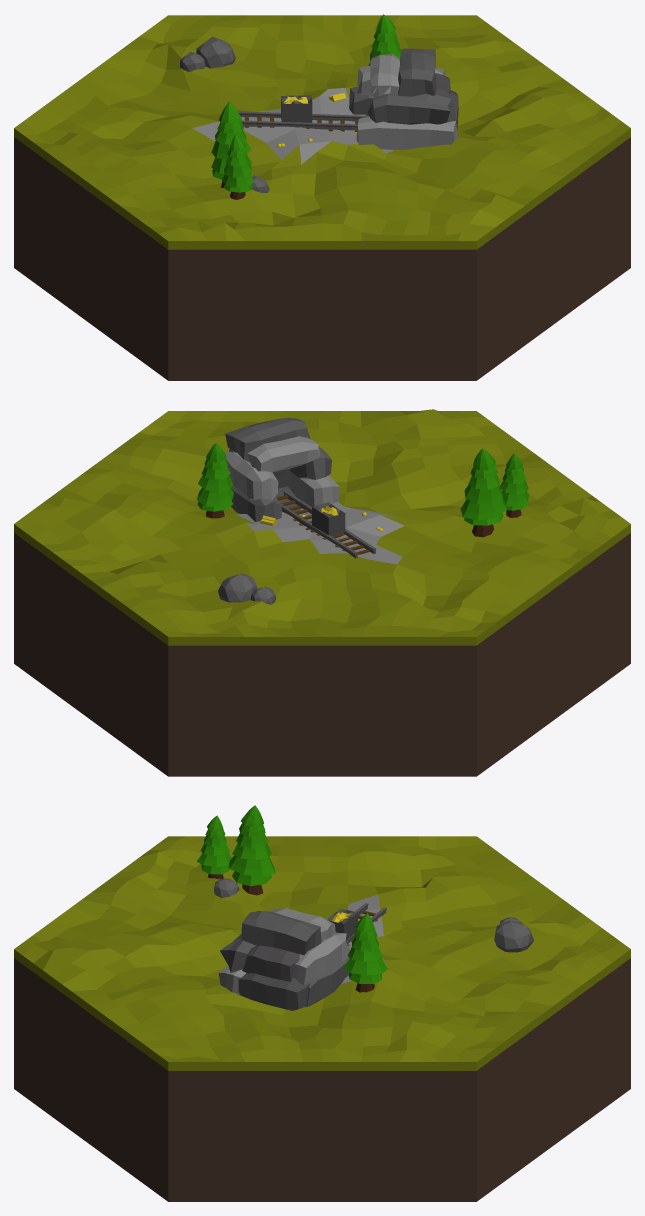
Rendered from Goldfeld.fbx.
The picture shows the model from 3 angles, top to bottom: view 1: azimuth 30°, elevation 25°; view 2: azimuth 150°, elevation 25°; view 3: azimuth 270°, elevation 25°; orthographic projection.
Visible parts, largest first — view 1: Cylinder, Cube.001, Cube.007, Cube.008, Cube.009, Icosphere.001, Cube.025, Cube, Cube.010, Cube.002; view 2: Cylinder, Cube.009, Cube.008, Cube.005, Cube.001, Cube.002, Cube.025, Icosphere.001, Cube.007, Ring2, Ring3, Ring2.002 (+1 smaller); view 3: Cylinder, Cube.008, Cube.003, Cube.005, Cube.006, Icosphere.001, Cube.002, Cube.007, Ring2, Cube.009, Cube.025, Ring2.002.
Boxes of the visible parts, x1,y1,x2,y2 form: Cylinder: (14,15,630,380); Cube.001: (356,117,457,150); Cube.007: (367,93,457,124); Cube.008: (398,48,436,96); Cube.009: (370,53,399,97); Icosphere.001: (196,36,235,68); Cube.025: (281,95,312,122); Cube: (241,120,357,130); Cube.010: (237,111,369,121); Cube.002: (349,86,374,115); Cylinder: (14,409,630,776); Cube.009: (245,436,319,472); Cube.008: (225,418,310,459); Cube.005: (224,451,278,500); Cube.001: (288,470,339,506); Cube.002: (231,485,281,521); Cube.025: (312,502,345,535); Icosphere.001: (218,573,257,602); Cube.007: (289,447,331,479); Ring2: (460,499,506,520); Ring3: (464,485,503,504); Ring2.002: (197,488,233,506); Cylinder: (14,836,630,1201); Cube.008: (241,911,321,955); Cube.003: (238,973,310,1010); Cube.005: (293,932,350,984); Cube.006: (242,945,299,981); Icosphere.001: (494,920,533,952); Cube.002: (305,957,349,1007); Cube.007: (220,934,256,972); Ring2: (229,855,275,876); Cube.009: (269,908,335,941); Cube.025: (327,908,357,940); Ring2.002: (343,958,387,975).
Size of the model in its own units: 173 by 79.4 by 200.
